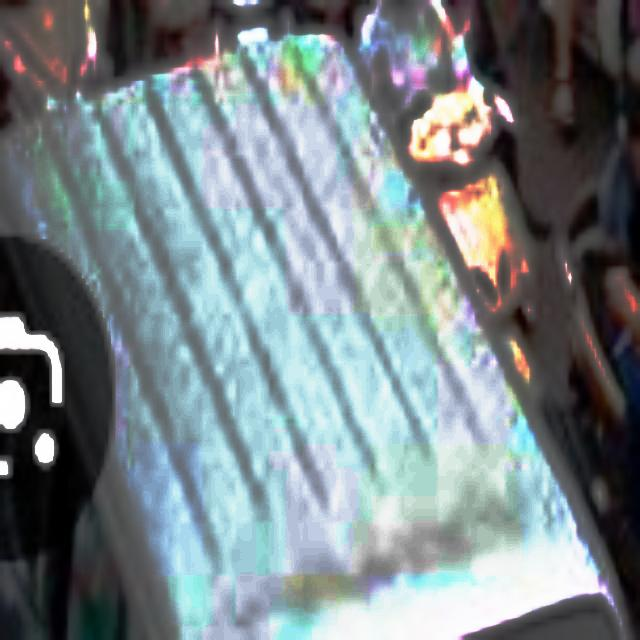Car: (36, 65, 538, 634)
